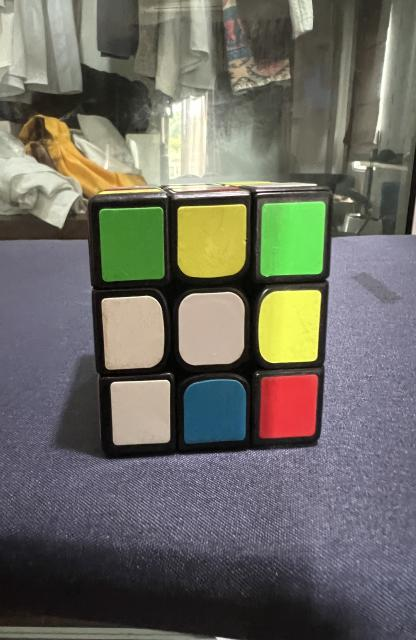Blue: (184, 379, 246, 444)
Green: (260, 201, 326, 276), (99, 208, 165, 282)
Red: (259, 375, 318, 439)
White: (179, 291, 245, 366), (102, 296, 165, 370), (110, 380, 170, 445)
Yellow: (178, 204, 247, 278), (258, 290, 322, 364)
